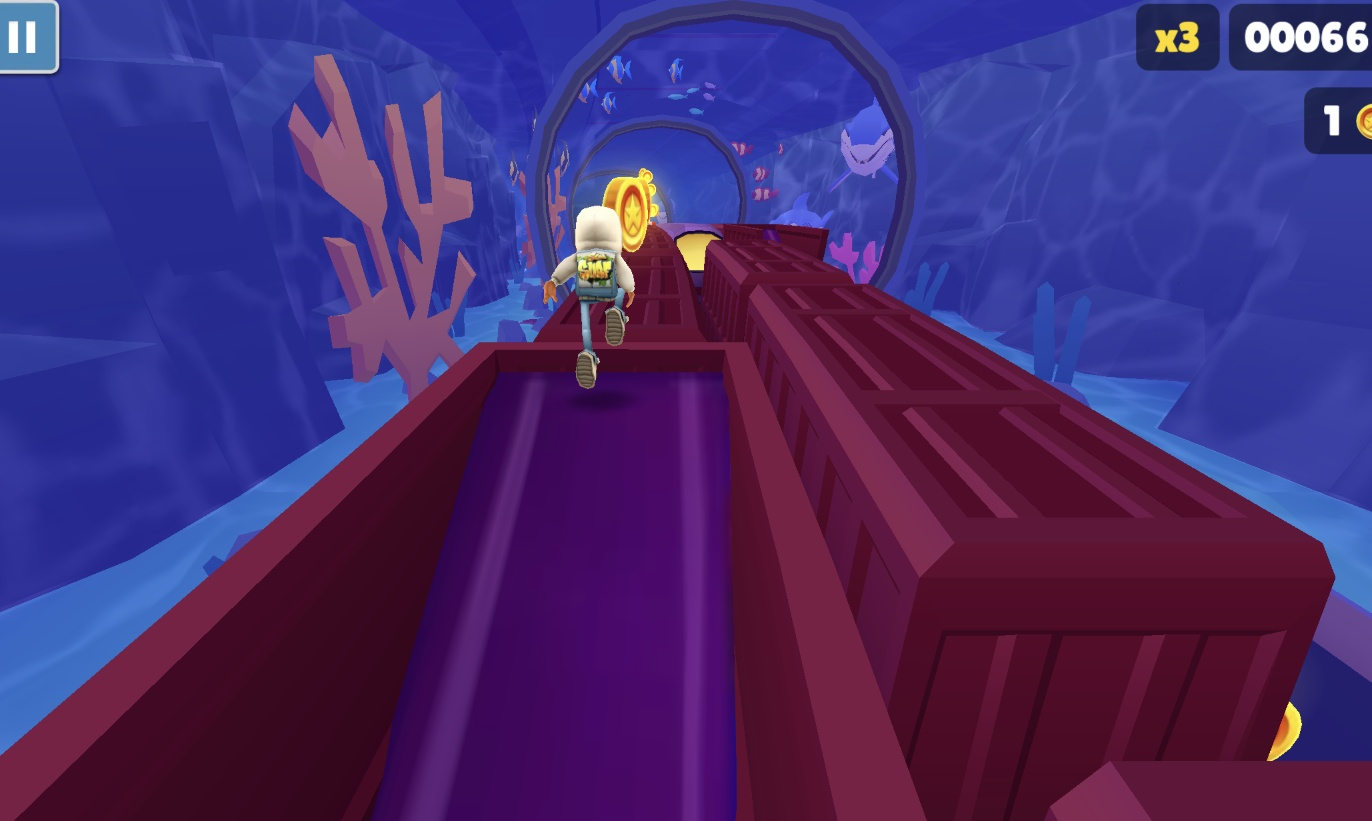train: (0, 328, 835, 821), (697, 226, 1335, 821), (618, 224, 703, 346), (651, 225, 726, 309)
